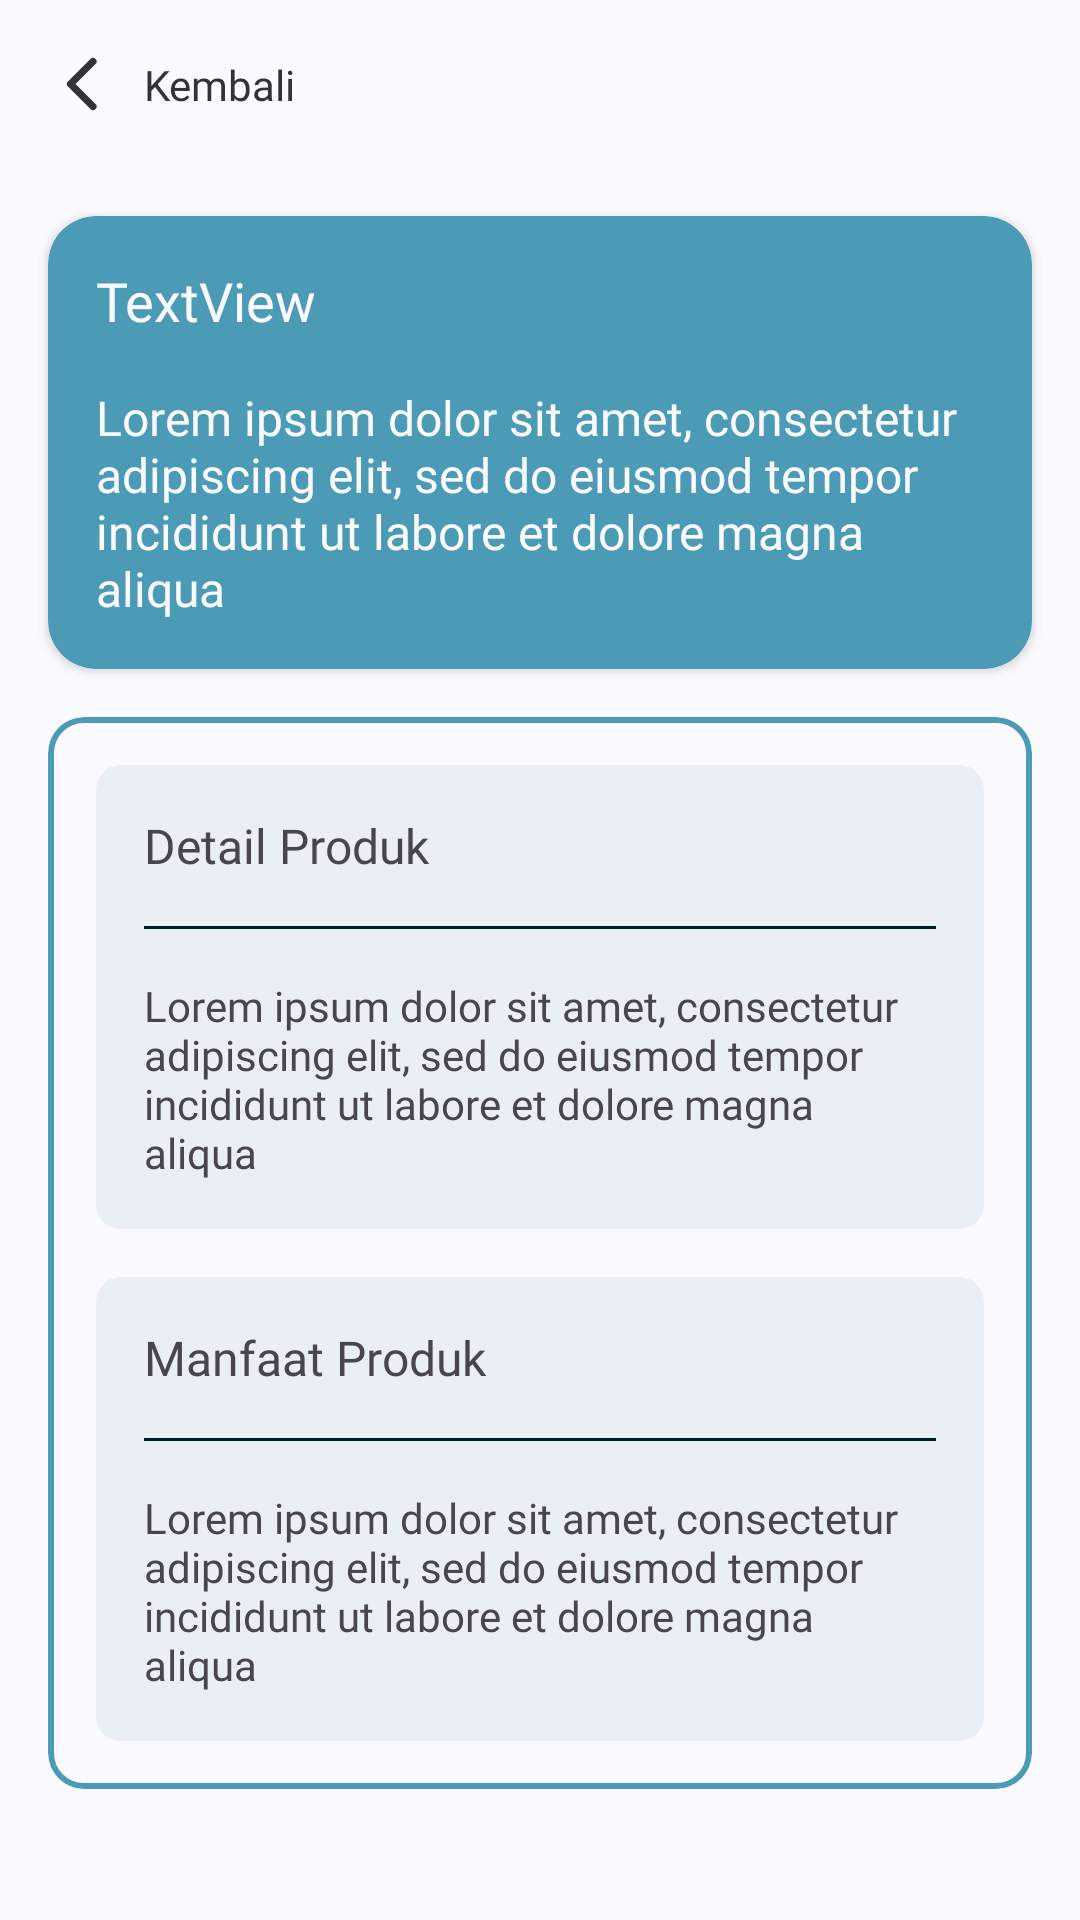

Icon click points for this 1080*1920 phone screenshot, format (x,y):
caretleft: (81,84)
